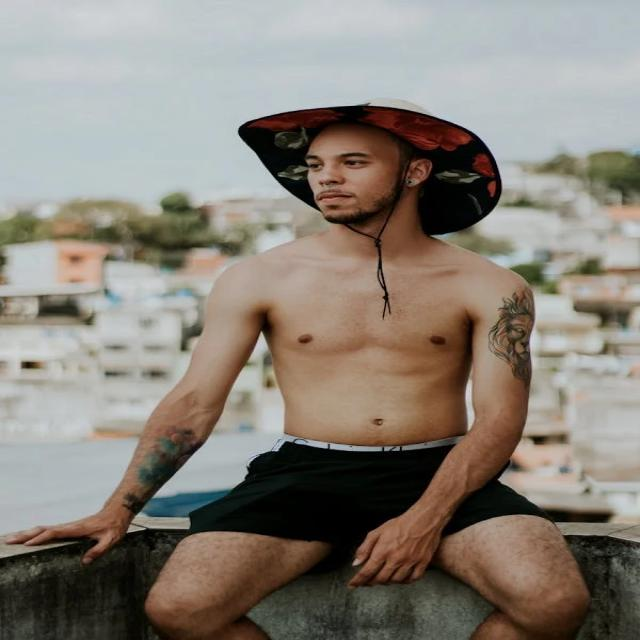Real human 2: (77, 87, 603, 636)
